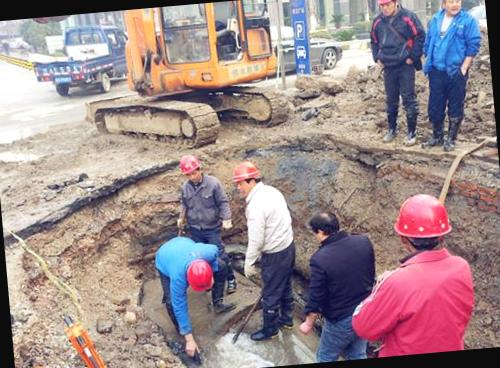no_helmet: (300, 205, 347, 249), (437, 0, 468, 17)
